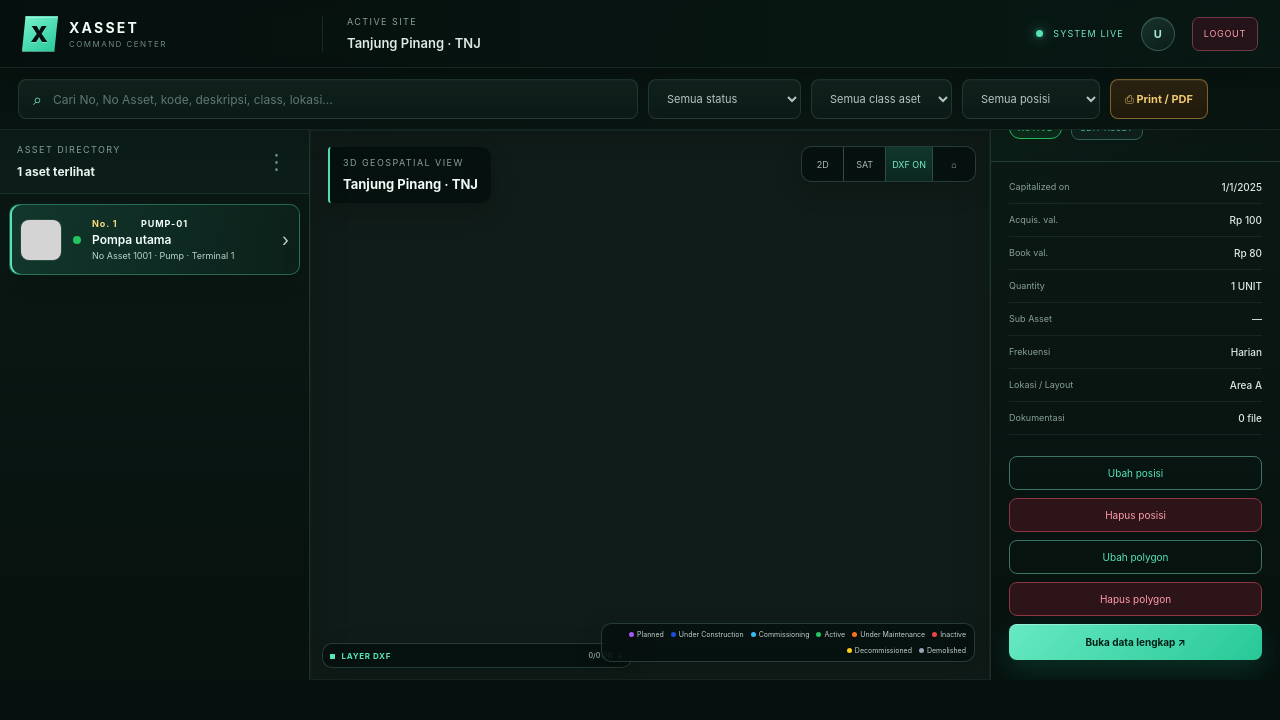
Test: AssetDashboard list-to-map synchronization › removes a recorded asset position without removing its polygon
(page scrolled)
Click the button "Hapus posisi" at [1136, 515], box left=1009, top=498, right=1262, bottom=532
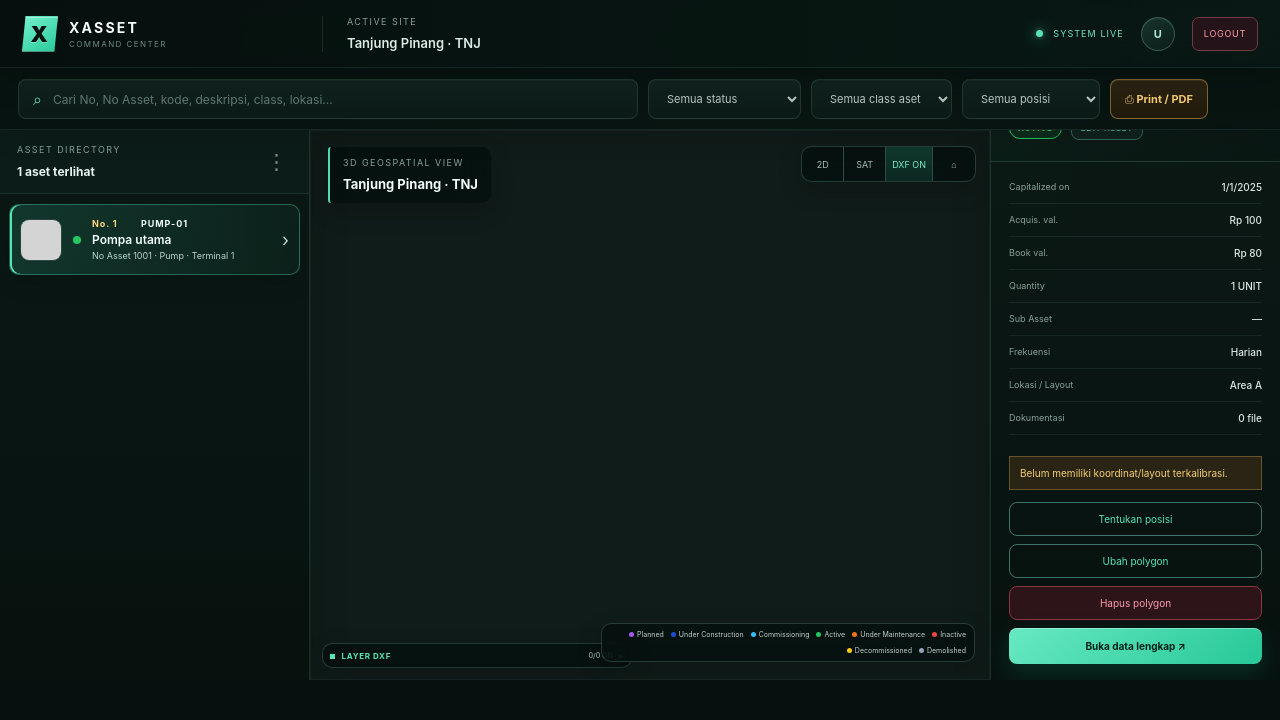
Expected: the button "Hapus polygon" is shown, left=1009, top=586, right=1262, bottom=620
Result: the button "Hapus posisi" is gone
